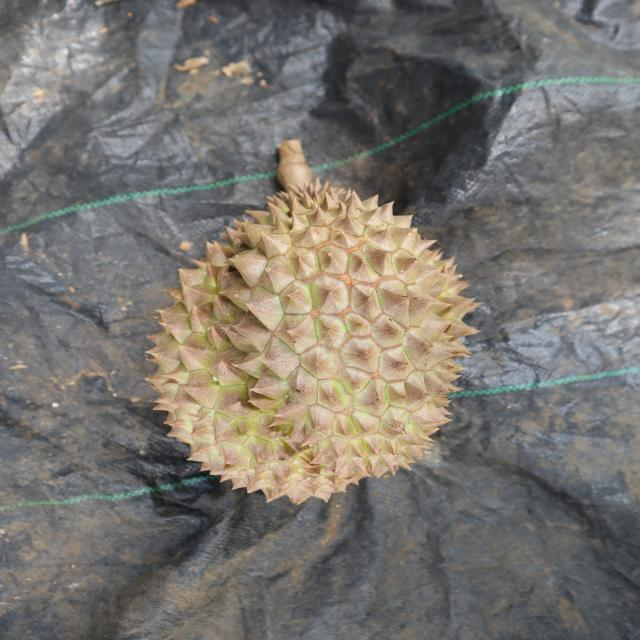mature: (142, 178, 480, 504)
